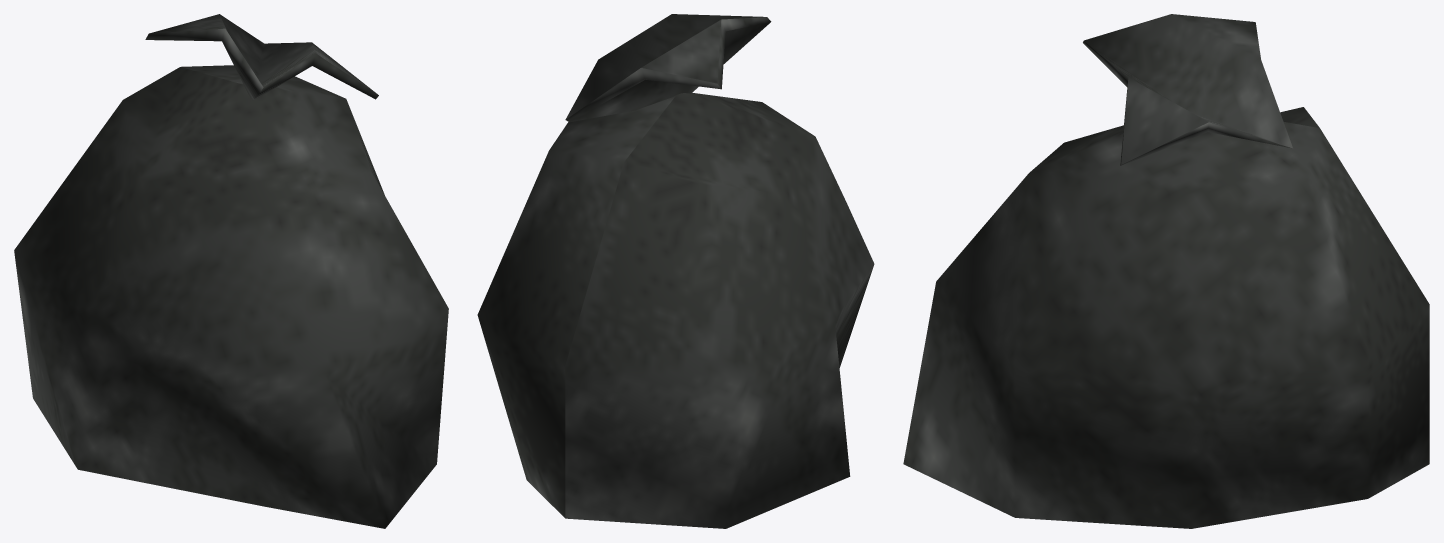
The model's file is trash-bag.fbx.
The picture shows the model from 3 angles, left to right: view 1: azimuth 30°, elevation 25°; view 2: azimuth 150°, elevation 25°; view 3: azimuth 270°, elevation 25°; orthographic projection. The views are drawn at different scales.
Parts seen in each view (by area): view 1: Bag; view 2: Bag; view 3: Bag.
Part boxes in pixels (x1,y1,x2,y2): Bag: (14, 14, 448, 528); Bag: (477, 14, 874, 528); Bag: (903, 14, 1429, 528).
Bounding box in the file's own units: 88.83 × 109 × 119.
